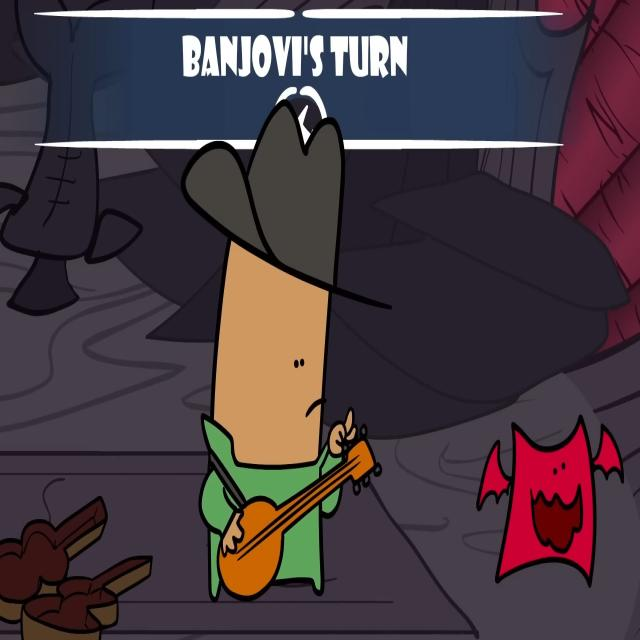Banjovi: (198, 101, 380, 602)
